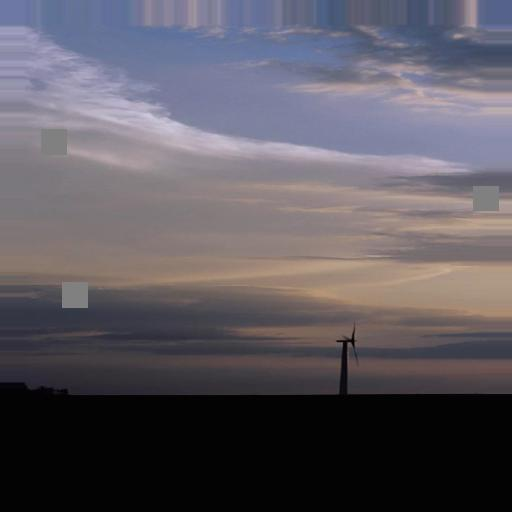wind turbine: (332, 318, 361, 397)
